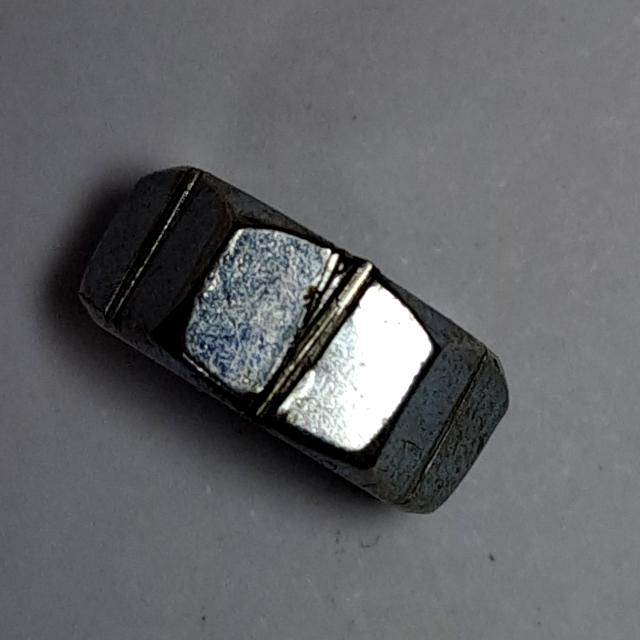Side_Scratches: (70, 153, 530, 525)
